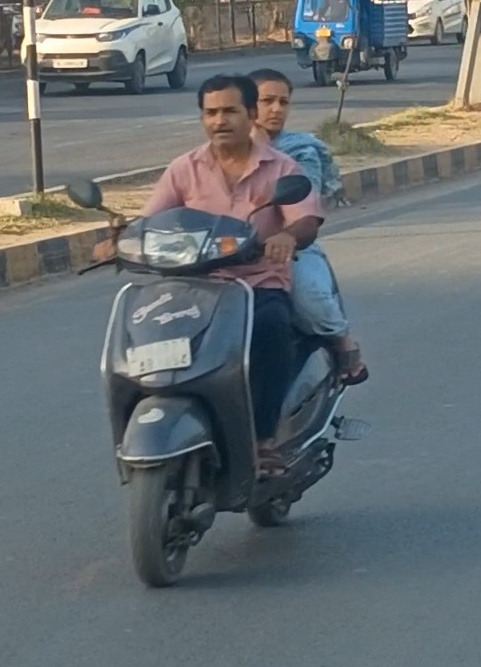BikeWithRider: (56, 60, 381, 595)
NoHelmet: (188, 68, 265, 155), (239, 63, 301, 140)
